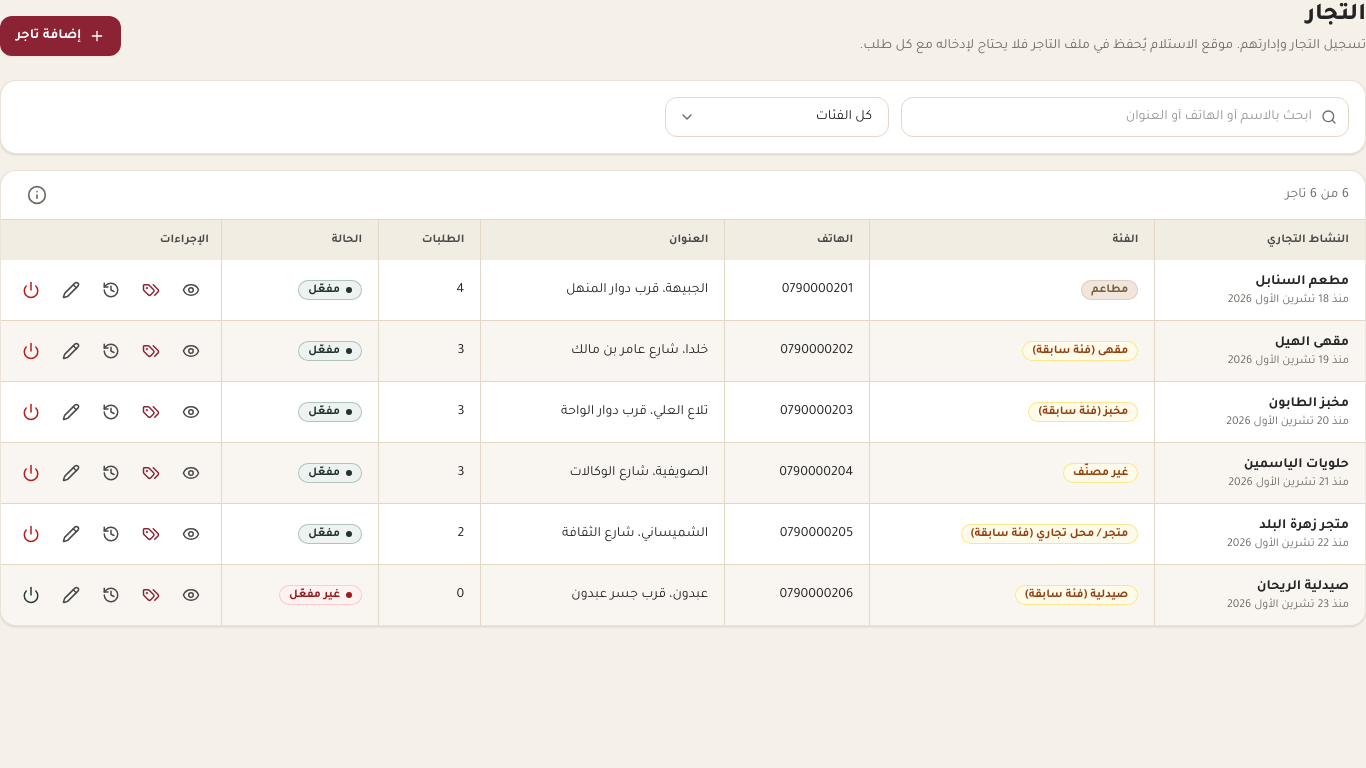
Scenario: merchant and captain tables: one ⓘ legend above each table › merchants: every row keeps its five labelled actions and the legend names them
Expected: the button named "عرض التفاصيل" in the row of "مطعم السنابل" is shown, [173,272,209,308]
Expected: the link named "المناطق والأسعار" in the row of "مطعم السنابل" is shown, [142,281,160,299]
Step 1. Click the button named "شرح إجراءات الجدول" → (37,195), box [17,175,57,215]
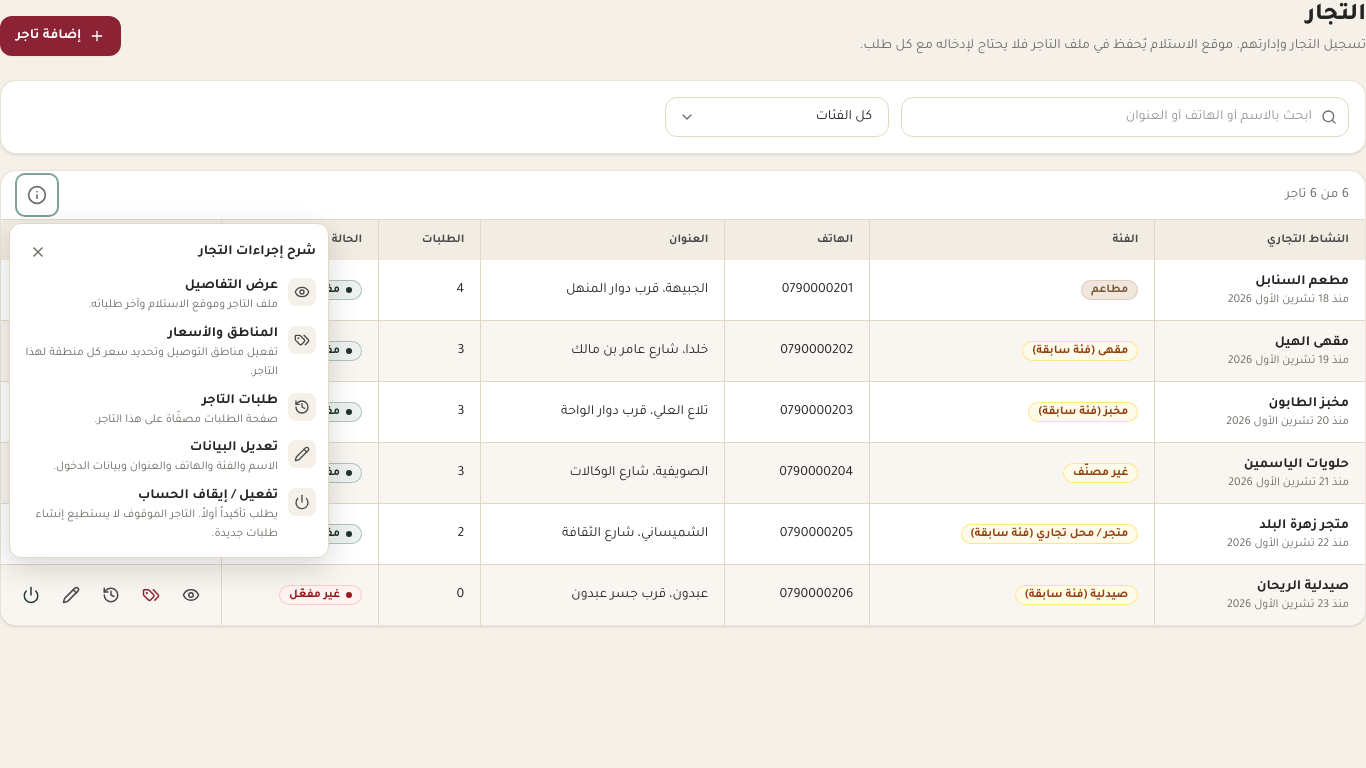
Expected: the number of list items is 5, [88,278,316,311]; [22,324,316,382]; [94,392,316,426]; [22,438,316,478]; [22,486,316,544]
